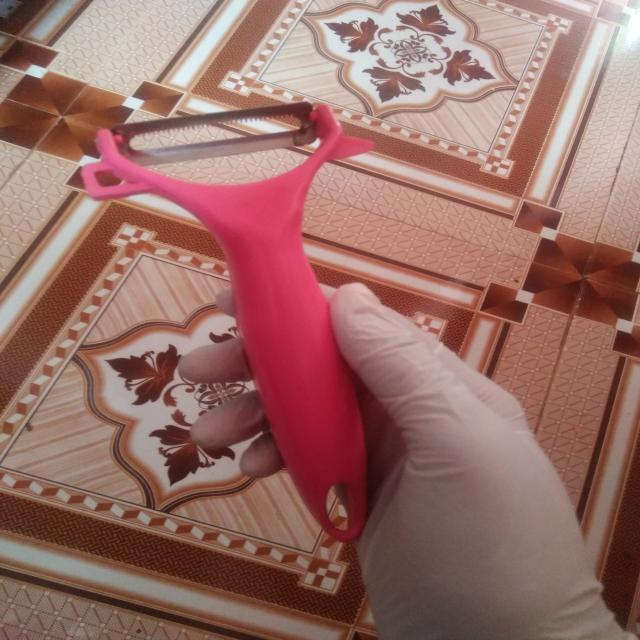glove_hand: (172, 278, 624, 639)
